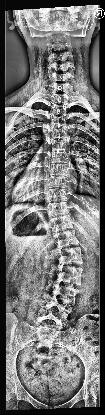Vertebrae: (56, 264, 84, 286), (55, 285, 81, 307), (58, 247, 84, 267), (37, 312, 63, 332), (42, 302, 74, 316), (54, 231, 78, 248), (50, 217, 74, 233), (48, 202, 70, 216), (50, 188, 68, 204), (49, 114, 69, 128), (48, 176, 70, 188), (50, 140, 70, 152), (52, 163, 68, 177), (50, 128, 68, 140), (50, 152, 68, 164)
